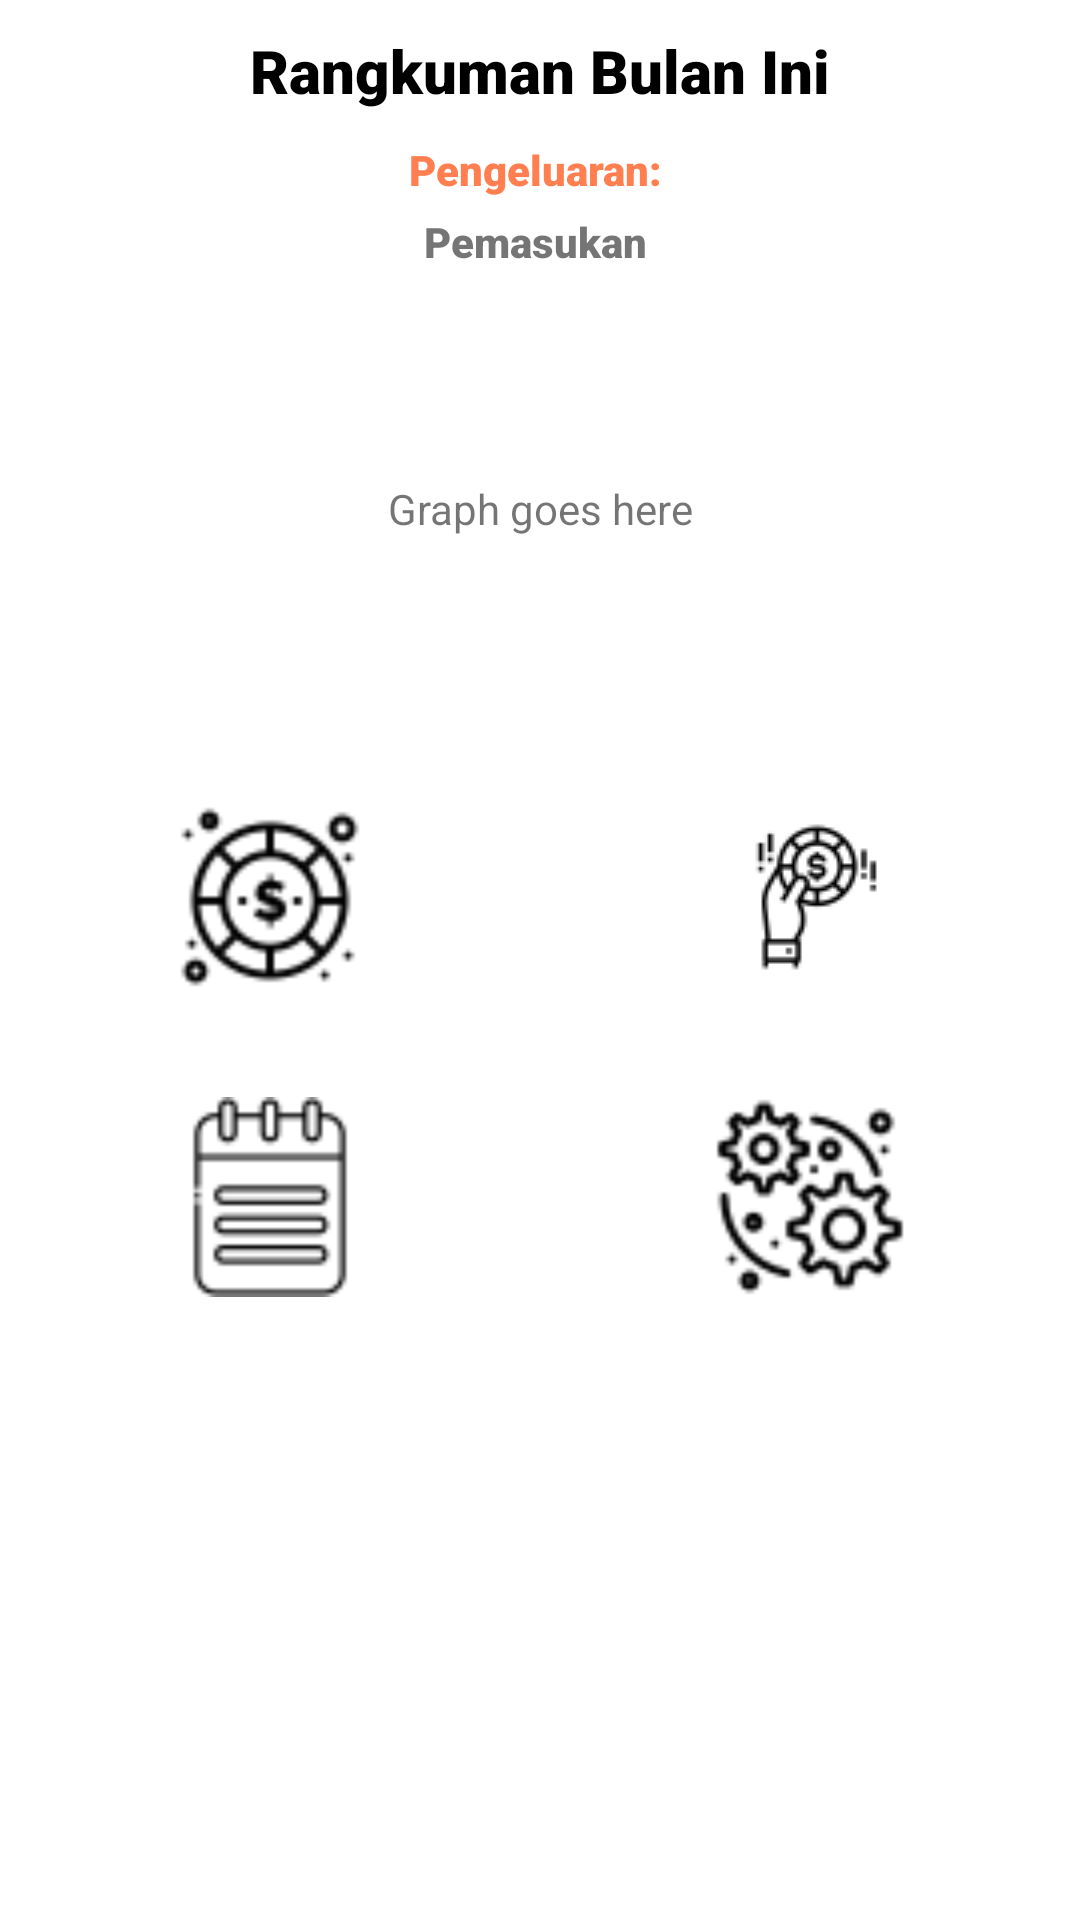

Locate icon controls on the screen. Image size 1080w x 1920h, boxes as (x1, y1, x2, y2).
coin: (181, 808, 359, 986)
gear: (716, 1100, 904, 1294)
notes: (193, 1097, 347, 1297)
pay: (756, 824, 877, 970)
